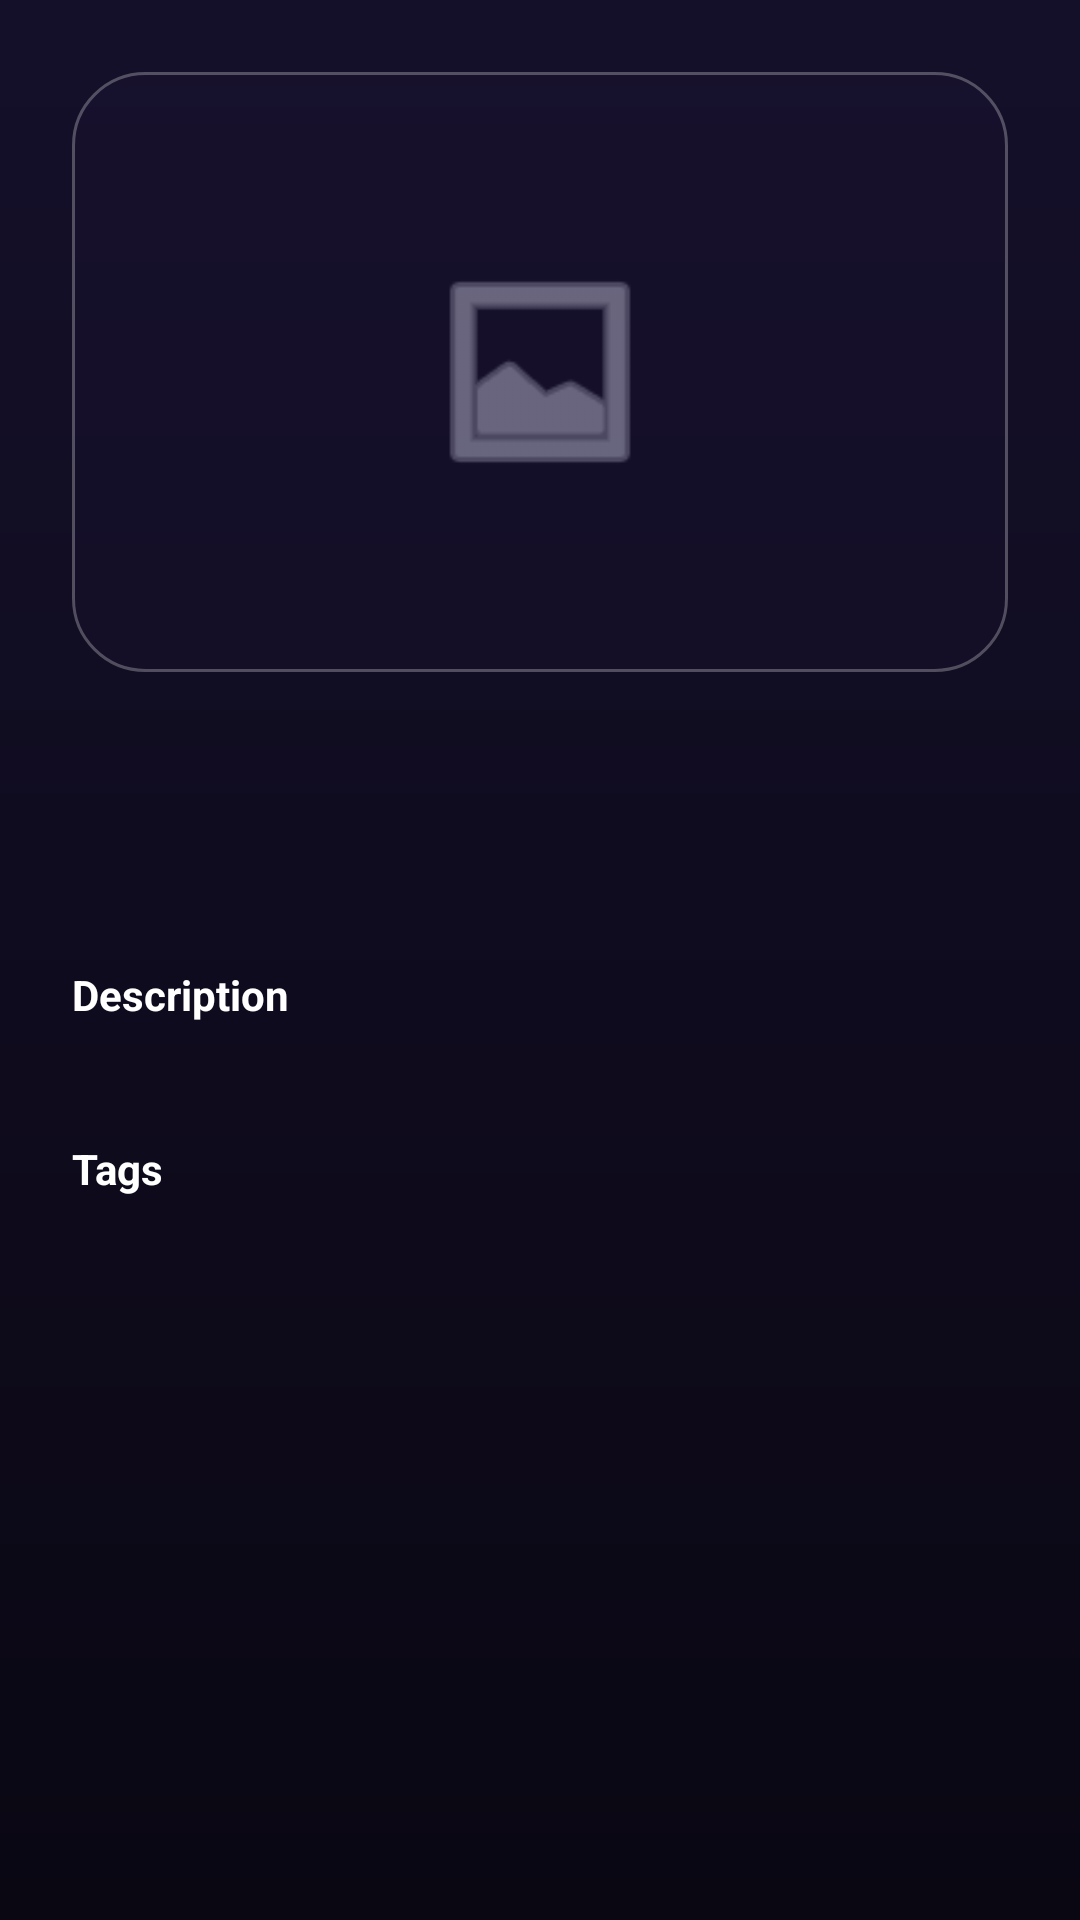

Named icons in this screenshot (1080 x 1920) and their bounding boxes, bbox=(x1, y1, x2, y2):
gallery: bbox=(450, 282, 630, 462)
